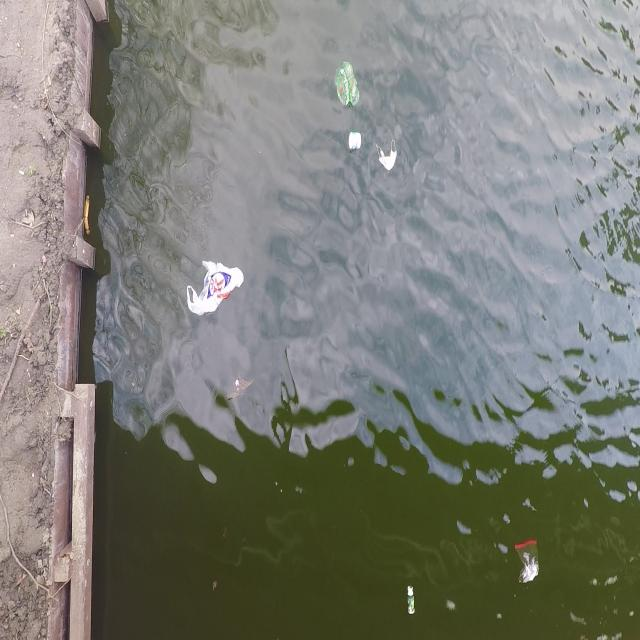Non plastique: (375, 134, 402, 179)
Sac plastique: (183, 252, 246, 321), (511, 530, 547, 596), (330, 52, 362, 110)
